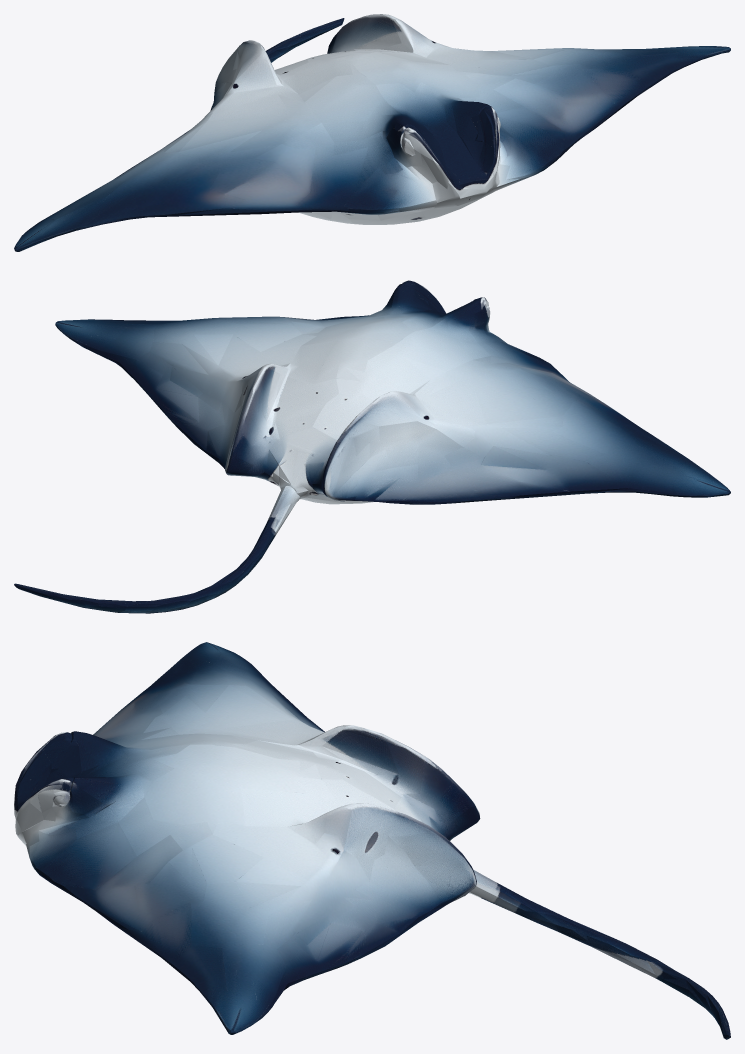
Rendered from manta_ray.glb.
3 views of the same model, one above another, from view 1: azimuth 30°, elevation 25°; view 2: azimuth 150°, elevation 25°; view 3: azimuth 270°, elevation 25° (orthographic). The views are drawn at different scales.
Size of the model in its own units: 1.9 by 0.4369 by 1.41.
Materials: 1 (1 with a texture image).
